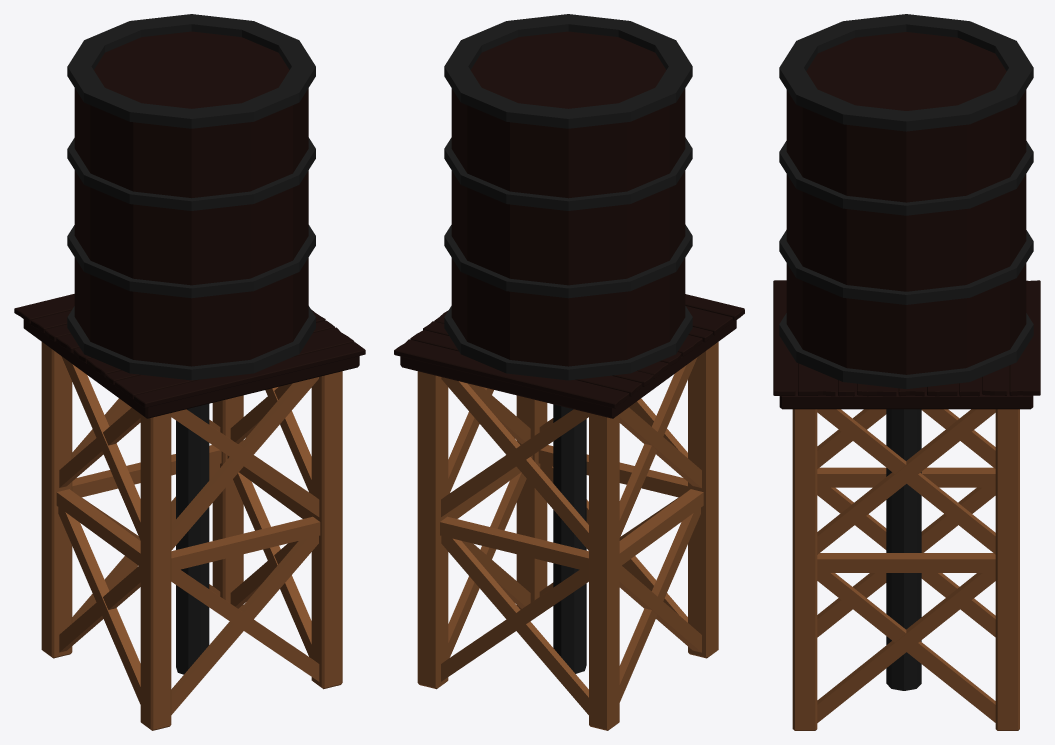
Rendered from Water Tank.obj.
The picture shows the model from 3 angles, left to right: view 1: azimuth 30°, elevation 25°; view 2: azimuth 150°, elevation 25°; view 3: azimuth 270°, elevation 25°; orthographic projection. The views are drawn at different scales.
Visible parts, largest first — view 1: Water_Tank; view 2: Water_Tank; view 3: Water_Tank.
Boxes of the visible parts, box(x1,y1,x2,y2) form: Water_Tank: box(14, 14, 365, 730); Water_Tank: box(394, 14, 744, 730); Water_Tank: box(773, 14, 1040, 730).
Size of the model in its own units: 2.2 by 5.68 by 2.23.
